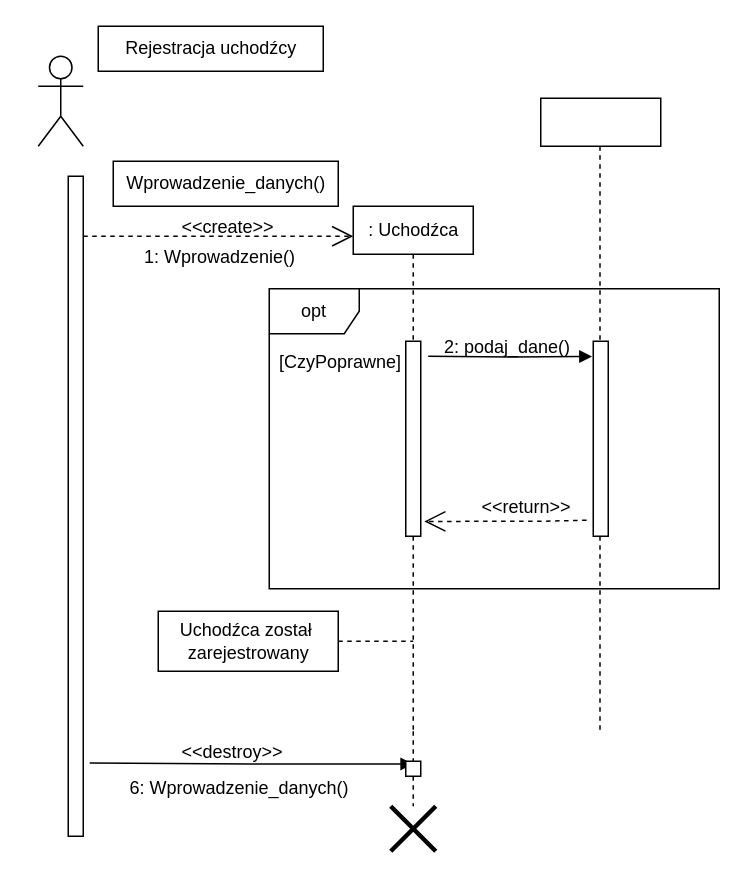
The diagram is 746 pixels wide and 879 high, and some of its shapes have lost their labels. Each missing label, with the box of its shape:
: Baza: (539, 97, 661, 146)
Urzędnik: (37, 55, 83, 146)
